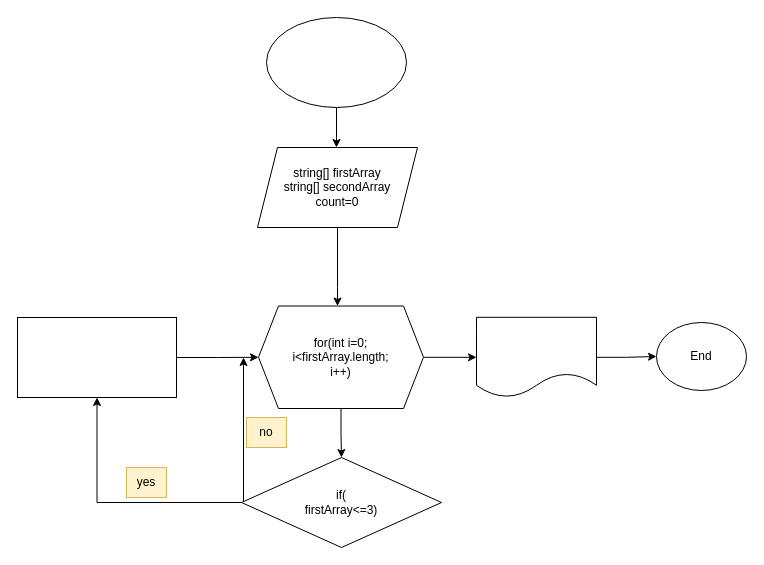
This 764x565 diagram has some shape labels left out. Each missing label, with the box of its shape:
secondArray: (476, 316, 596, 397)
secondArray[count] = firstArray[i] count++: (16, 316, 176, 398)
Start: (266, 16, 406, 108)
